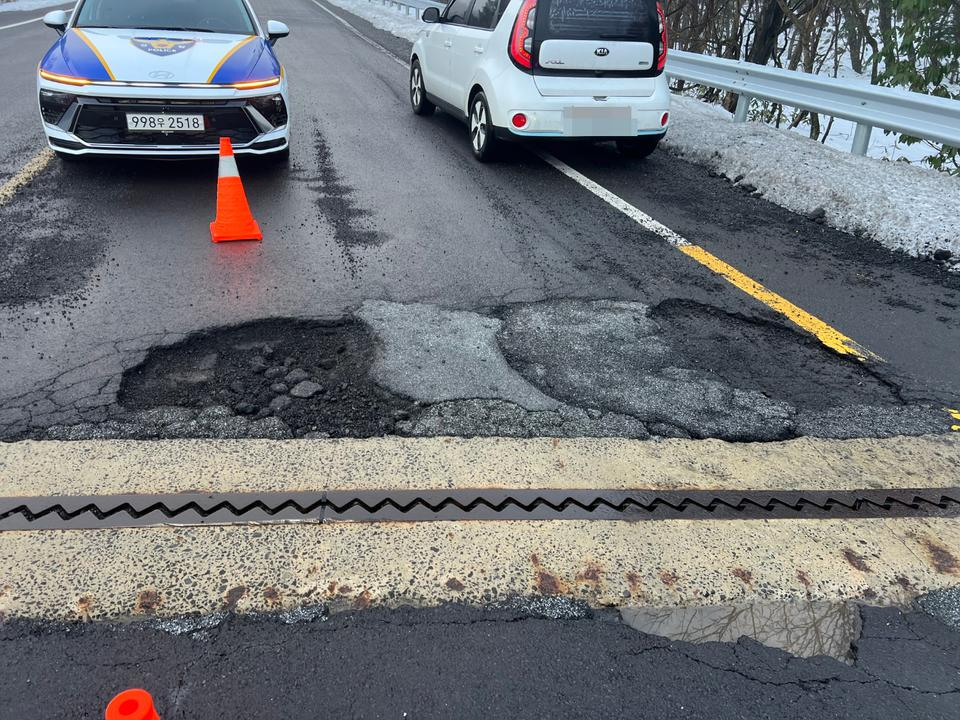pothole: (74, 271, 457, 446), (662, 275, 914, 422)
